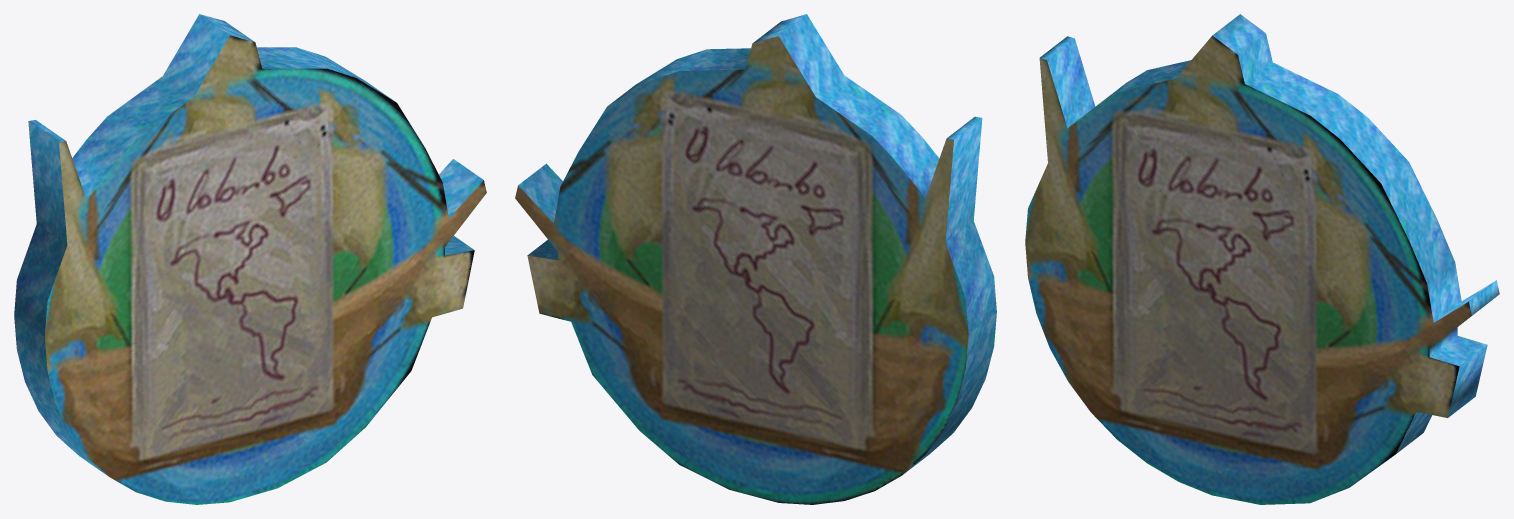
Rendered from ocolombo_spin (1).FBX.
The picture shows the model from 3 angles, left to right: view 1: azimuth 30°, elevation 25°; view 2: azimuth 150°, elevation 25°; view 3: azimuth 330°, elevation 25°; orthographic projection.
Parts seen in each view (by area): view 1: Cylinder001; view 2: Cylinder001; view 3: Cylinder001.
Boxes of the visible parts, left/top/right/bottom form: Cylinder001: left=14, top=14, right=486, bottom=504; Cylinder001: left=515, top=14, right=996, bottom=504; Cylinder001: left=1025, top=14, right=1499, bottom=504.
Bounding box in the file's own units: 74.25 × 73.81 × 10.09.
1 material, 1 textured.
